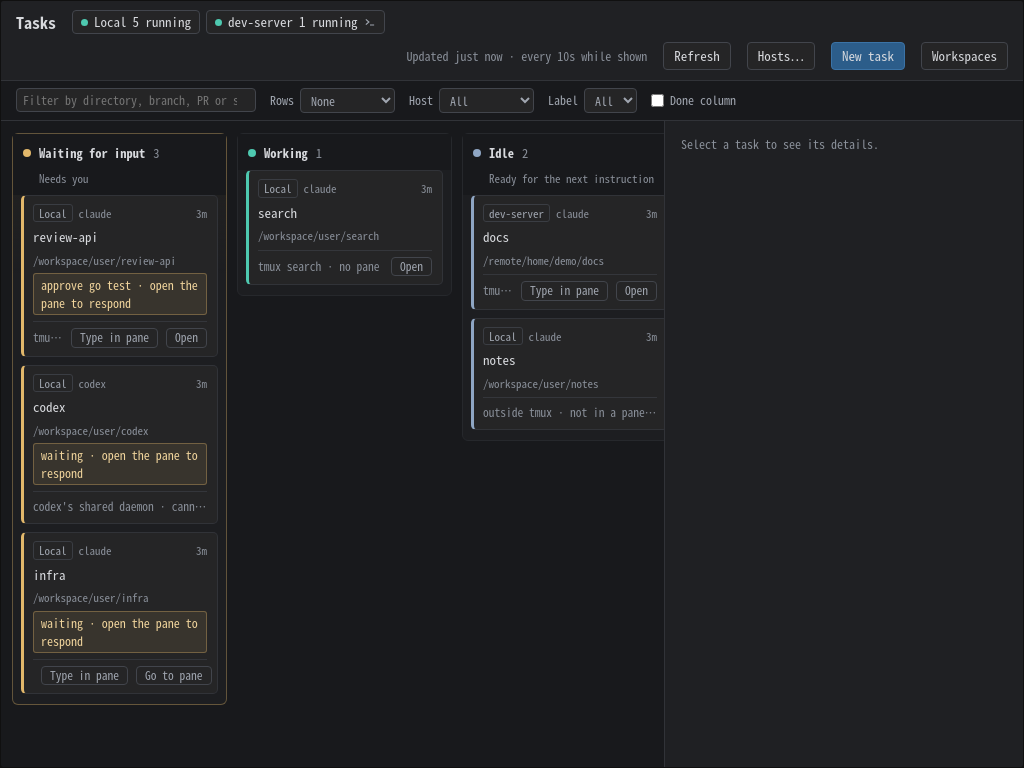
Test: TaskDashboard Type in pane: closing › ends only the attach, keeps the selection and filter, and returns focus to the button it was opened from
Click the button "review-api".
click(120, 237)  # box x1=33 y1=227 x2=207 y2=247
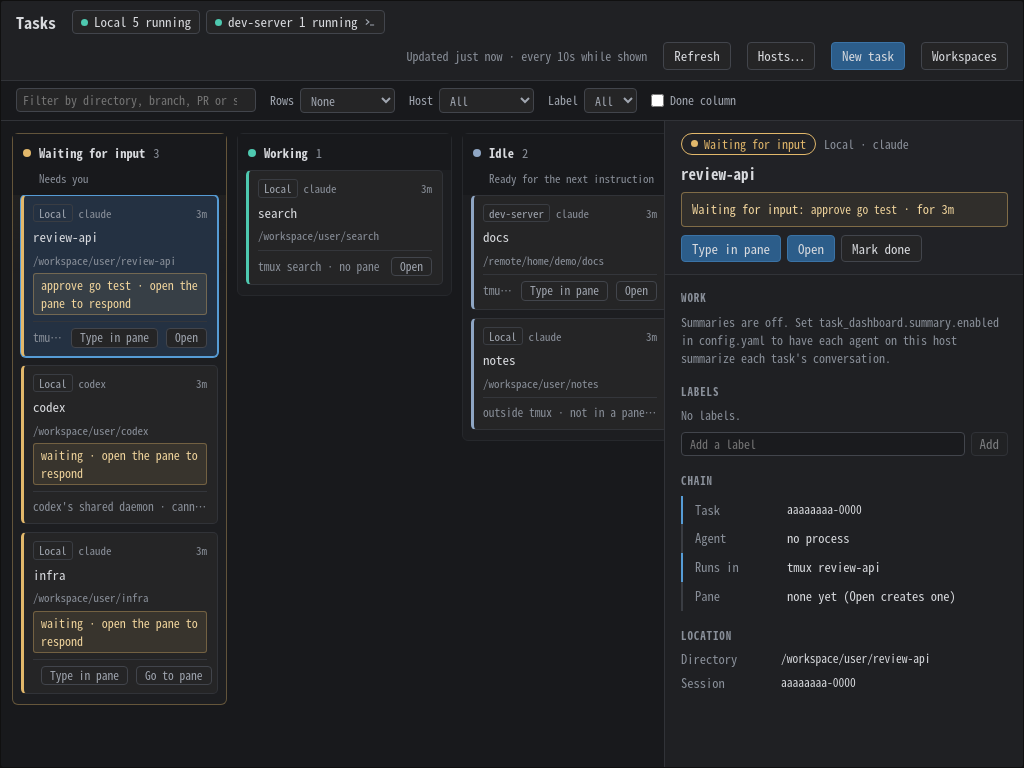
Type "workspace" into the search field named "Filter tasks".
click(136, 100); type("workspace")  # box x1=16 y1=88 x2=256 y2=112
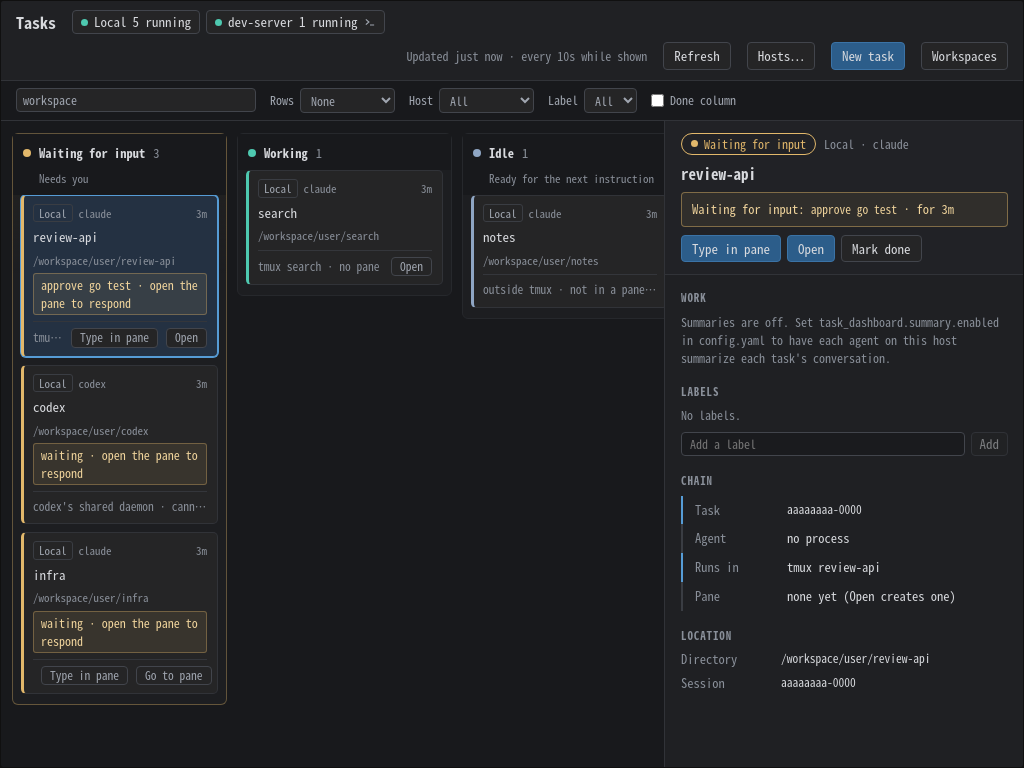
Click the button with aria-label "Type in pane: ".
click(114, 338)  # box x1=71 y1=328 x2=158 y2=348
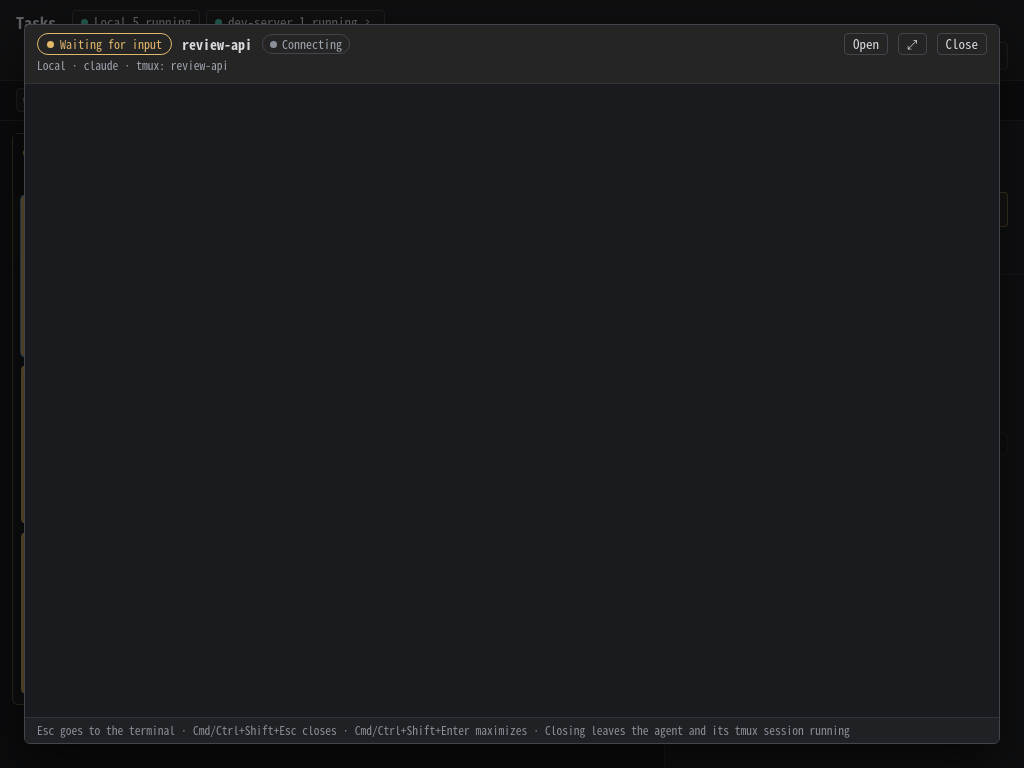
Click the button "Close".
click(962, 44)  # box x1=936 y1=33 x2=987 y2=55
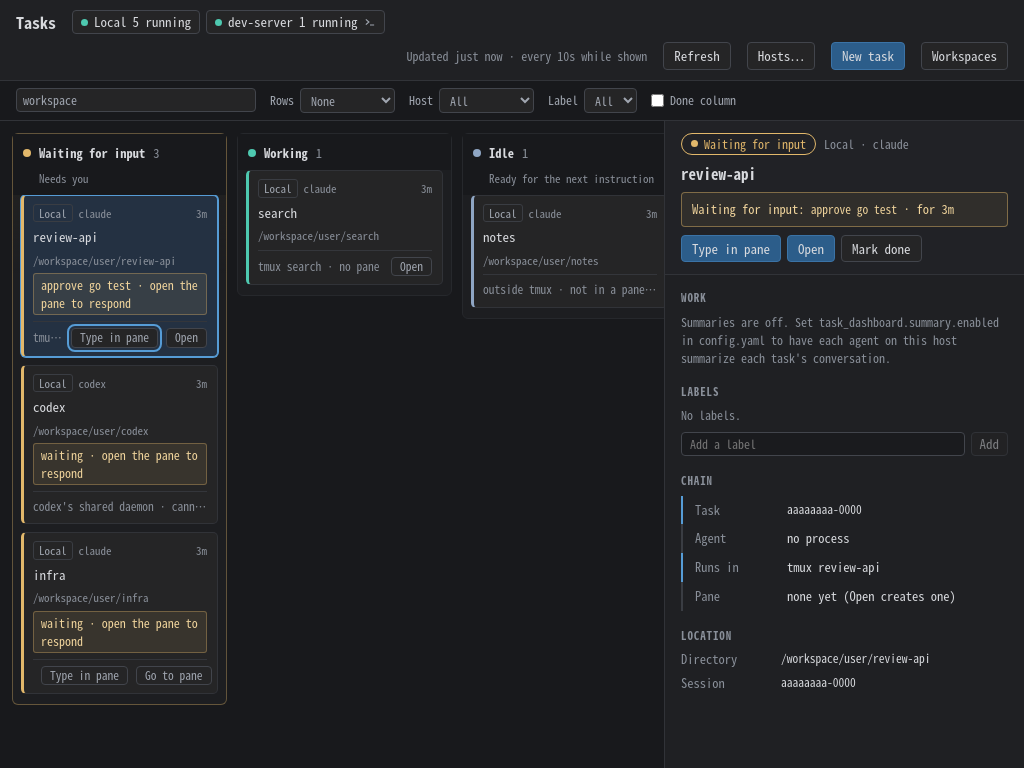
Result: the dialog is gone
